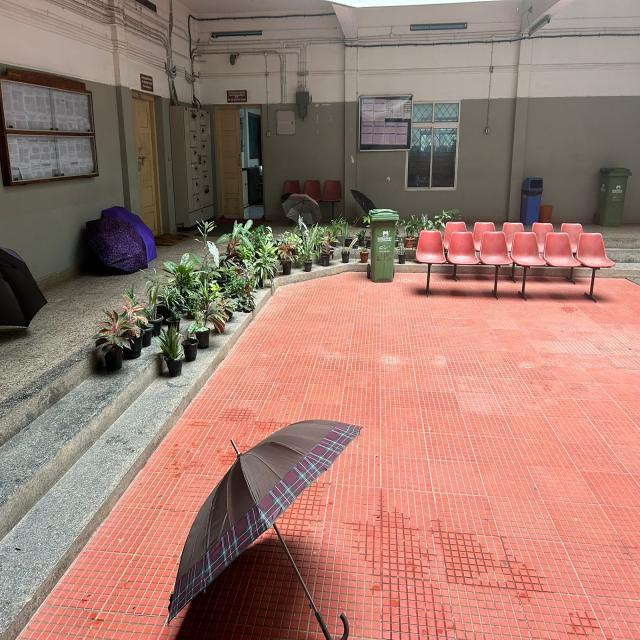chair ahead at: (575, 228, 614, 275), (512, 224, 548, 270), (414, 228, 444, 277), (481, 230, 512, 268), (448, 232, 478, 268)
dustbin ahead at: (359, 204, 401, 288)
plant ahead at: (98, 317, 126, 383), (158, 328, 188, 374), (186, 314, 206, 351), (135, 310, 160, 334)
